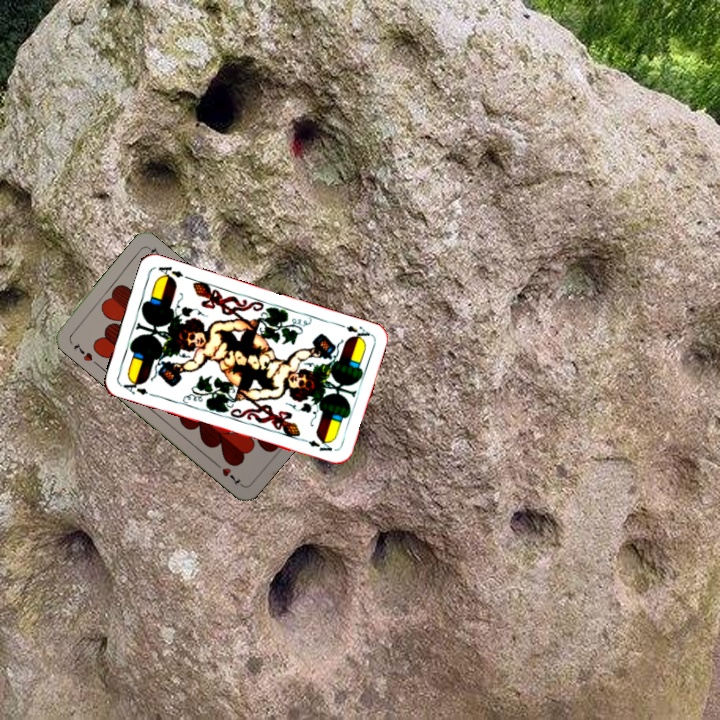EA: (334, 319, 373, 343), (117, 375, 150, 398)
H7: (69, 339, 95, 364)
